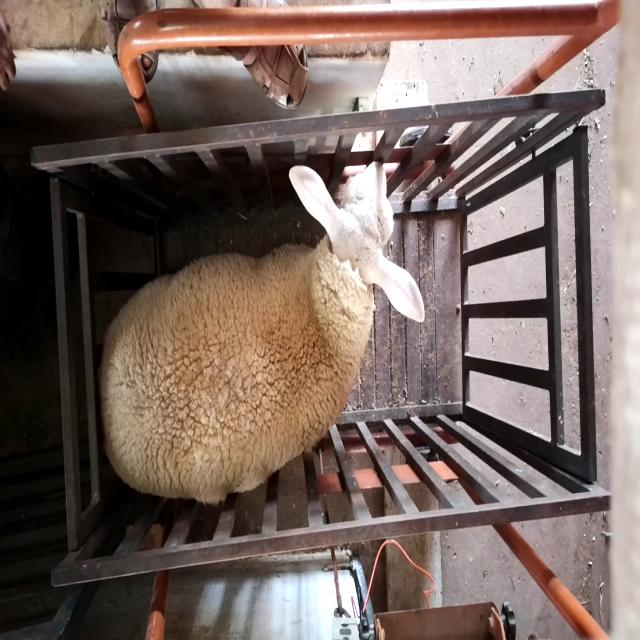sheep: (98, 161, 426, 506)
